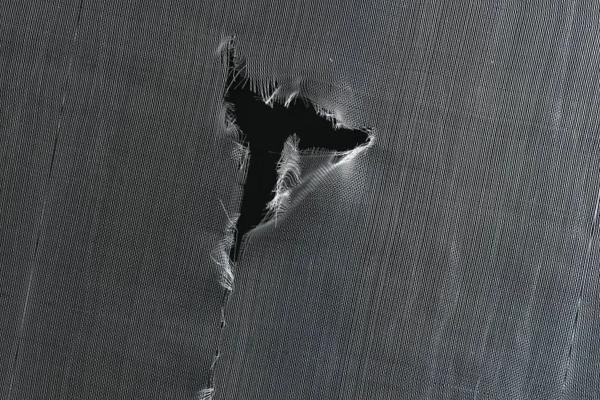hole: (211, 36, 377, 294)
